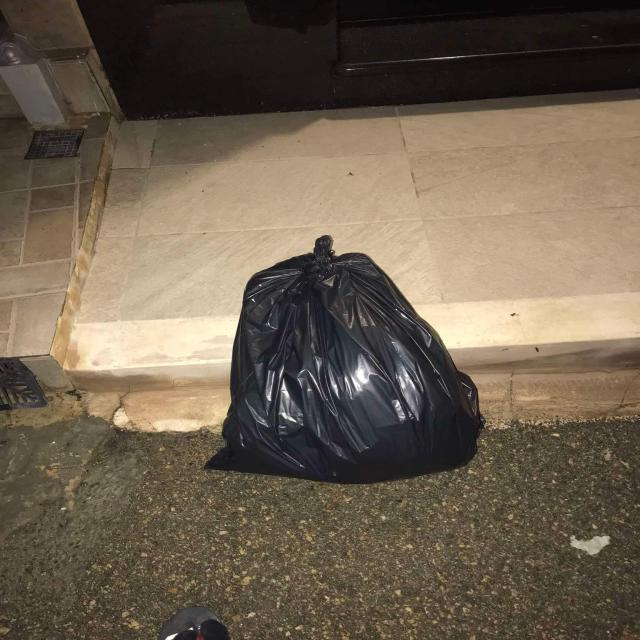Mixed Waste -Black Bag-: (207, 236, 487, 487)
